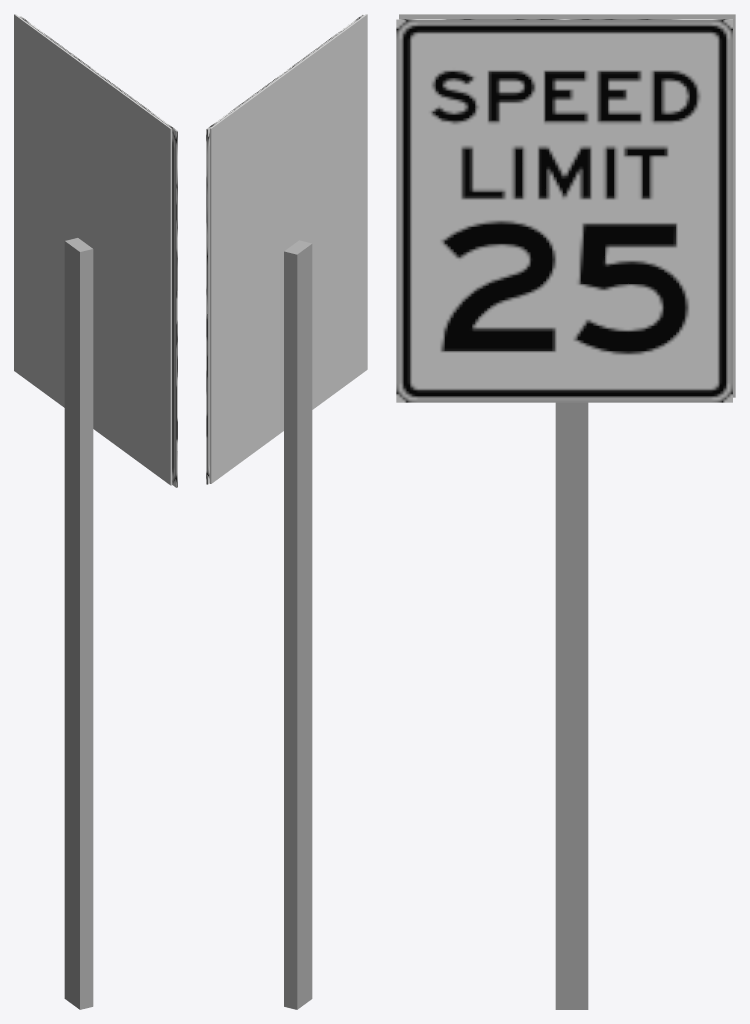
Rendered from speedlim_25.dae.
The picture shows the model from 3 angles, left to right: view 1: azimuth 30°, elevation 25°; view 2: azimuth 150°, elevation 25°; view 3: azimuth 270°, elevation 25°; orthographic projection. The views are drawn at different scales.
Parts seen in each view (by area): view 1: Cube_002, Cube_001, Cube; view 2: Cube_002, Cube_001, Cube; view 3: Cube, Cube_001, Cube_002.
Boxes of the visible parts, left/top/right/bottom form: Cube_002: left=14, top=14, right=172, bottom=485; Cube_001: left=64, top=238, right=93, bottom=1009; Cube: left=20, top=16, right=177, bottom=487; Cube_002: left=210, top=14, right=367, bottom=483; Cube_001: left=284, top=240, right=312, bottom=1009; Cube: left=206, top=14, right=363, bottom=484; Cube: left=396, top=19, right=732, bottom=402; Cube_001: left=555, top=402, right=588, bottom=1009; Cube_002: left=399, top=14, right=735, bottom=397.
Size of the model in its own units: 0.0799 by 0.9209 by 2.99.
